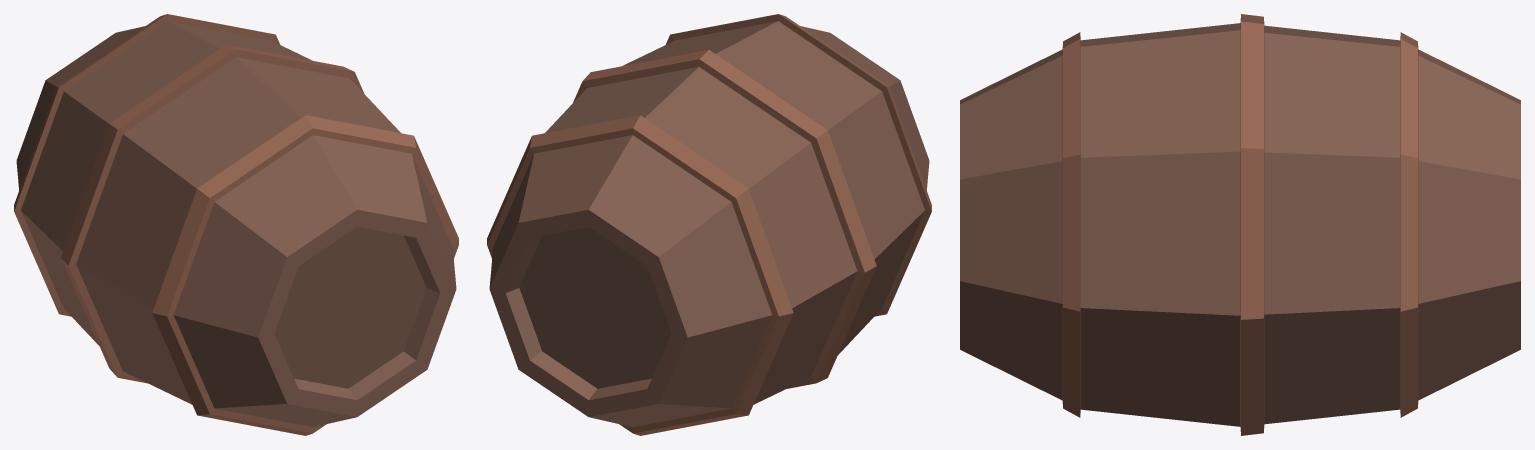
Rendered from Barrel.fbx.
The picture shows the model from 3 angles, left to right: view 1: azimuth 30°, elevation 25°; view 2: azimuth 150°, elevation 25°; view 3: azimuth 270°, elevation 25°; orthographic projection. The views are drawn at different scales.
Parts seen in each view (by area): view 1: Barrel; view 2: Barrel; view 3: Barrel.
Boxes of the visible parts, x1=… form: Barrel: x1=14, y1=14, x2=458, y2=435; Barrel: x1=487, y1=14, x2=931, y2=435; Barrel: x1=960, y1=14, x2=1520, y2=435.
Bounding box in the file's own units: 338 × 338 × 422.
